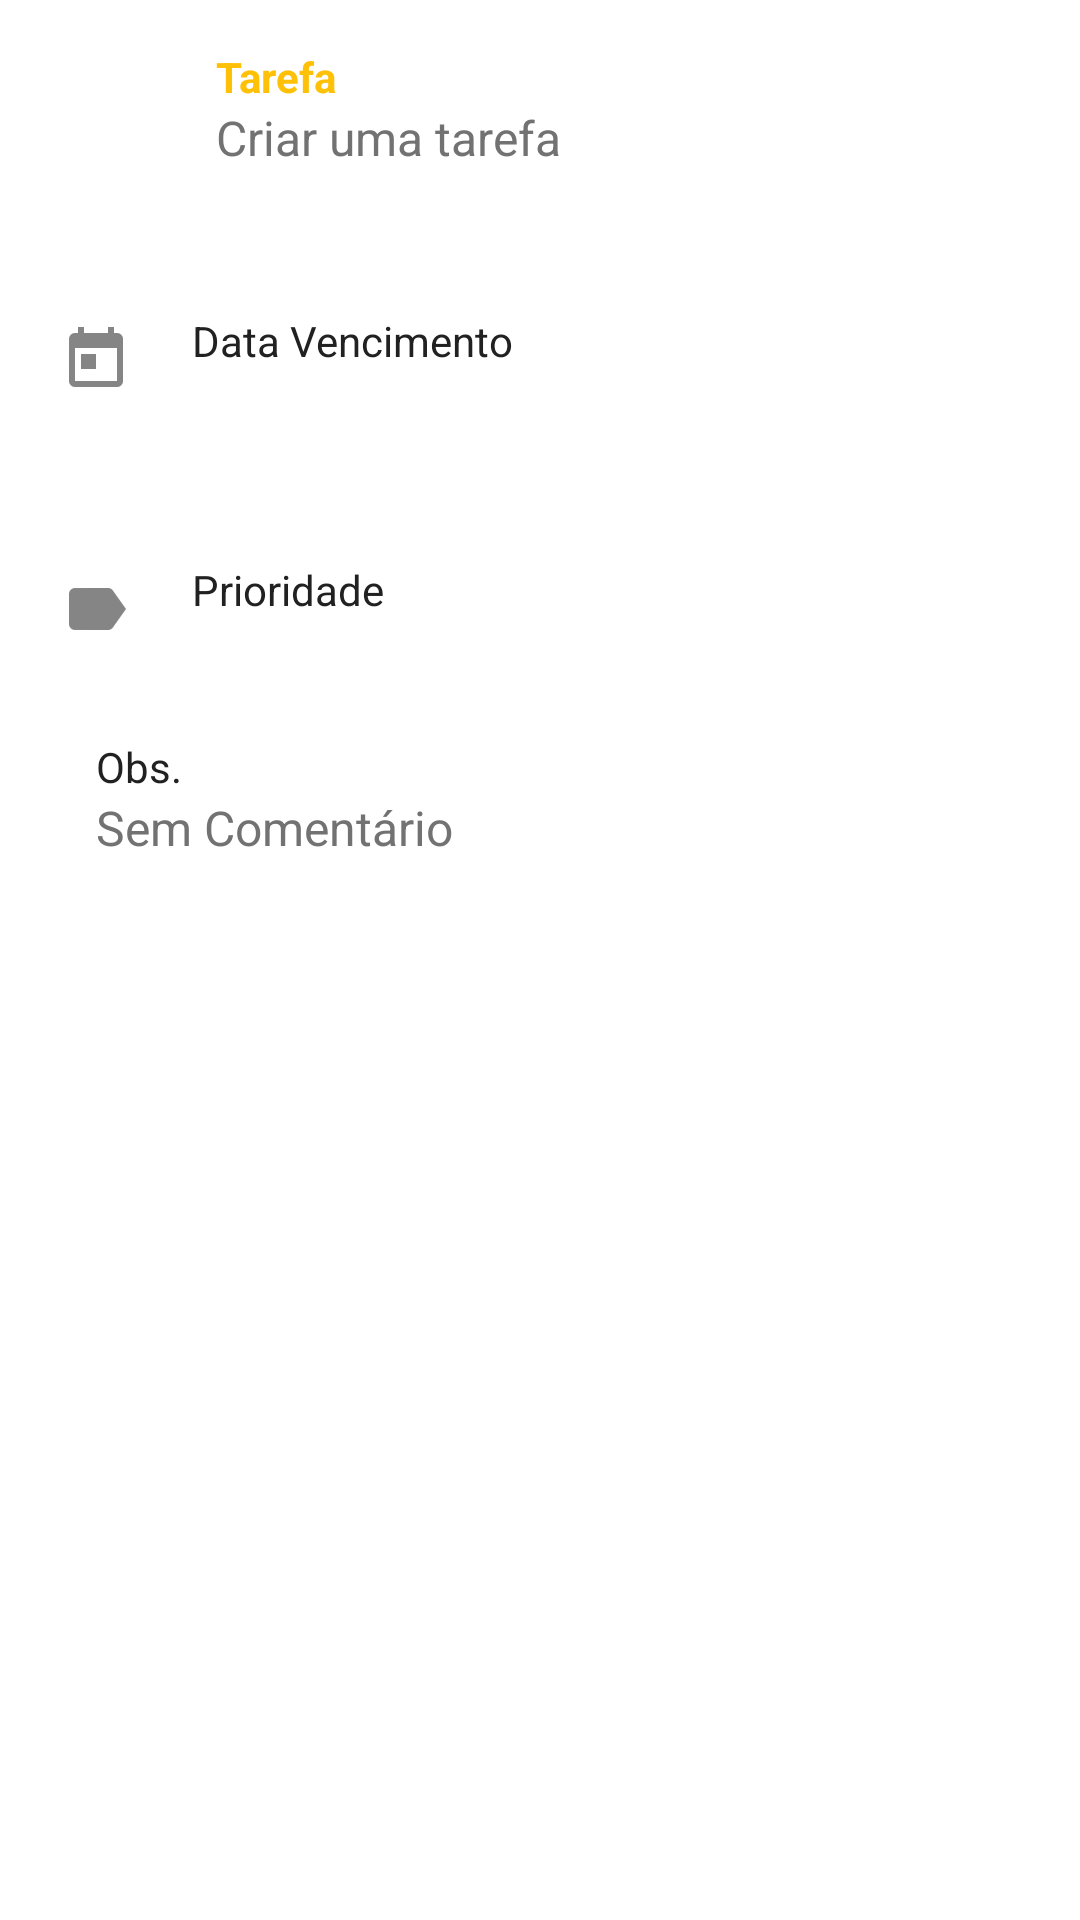

Named icons in this screenshot (1080*1920) and their bounding boxes, (x1, y1, x2, y2):
today: (69, 327, 123, 387)
